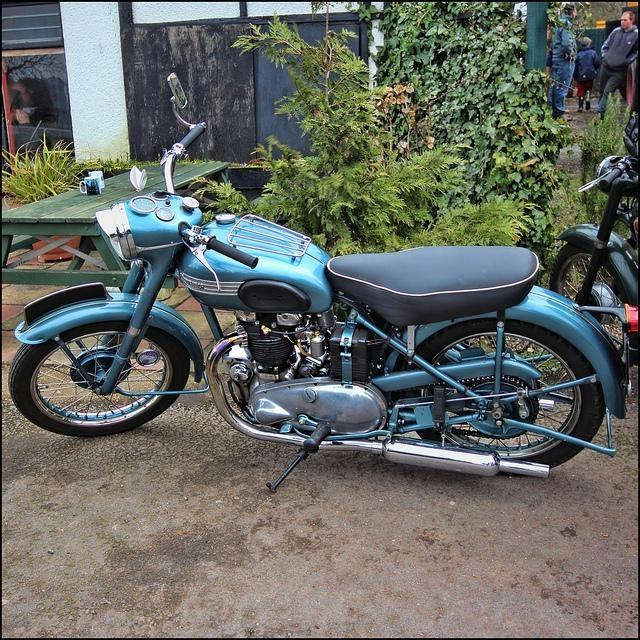motorcycle: (10, 74, 640, 493), (551, 152, 640, 352)
